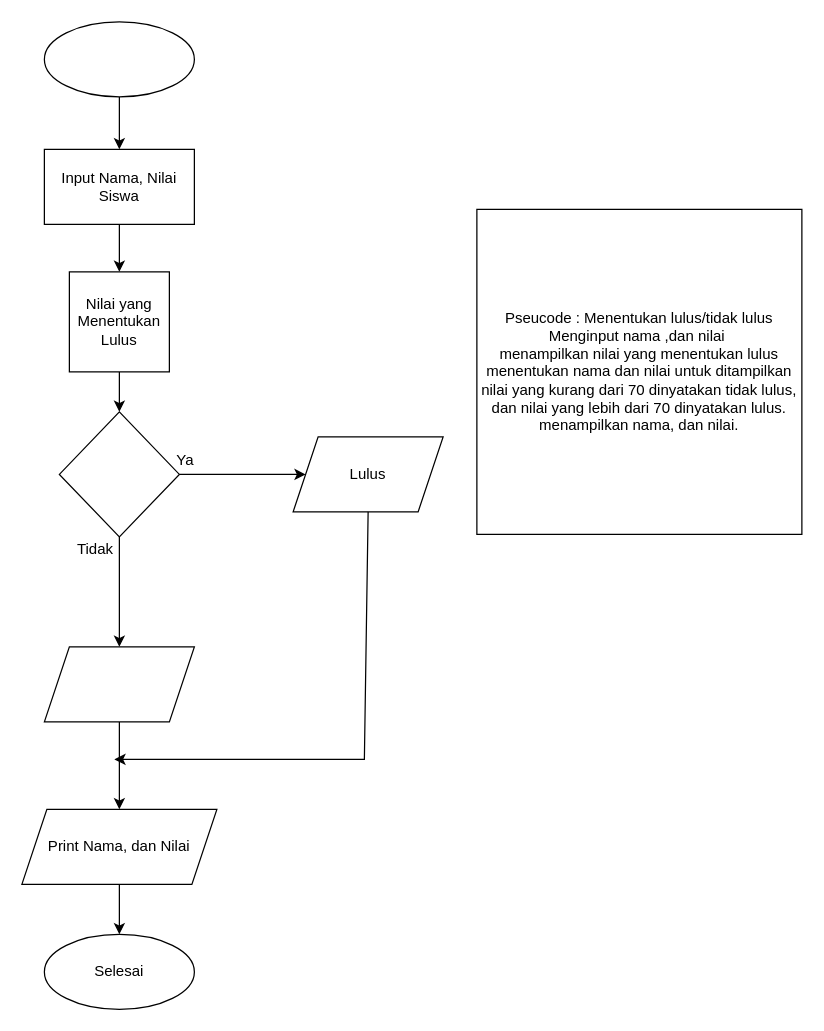
The diagram is 824 pixels wide and 1031 high, and some of its shapes have lost their labels. The shapes that lost their labels are listed below. From the top down, each one's centre as x and y in pixels, then its label:
point (118, 59): Mulai
point (118, 474): Nilai yang <70
point (118, 684): Tidak Lulus
